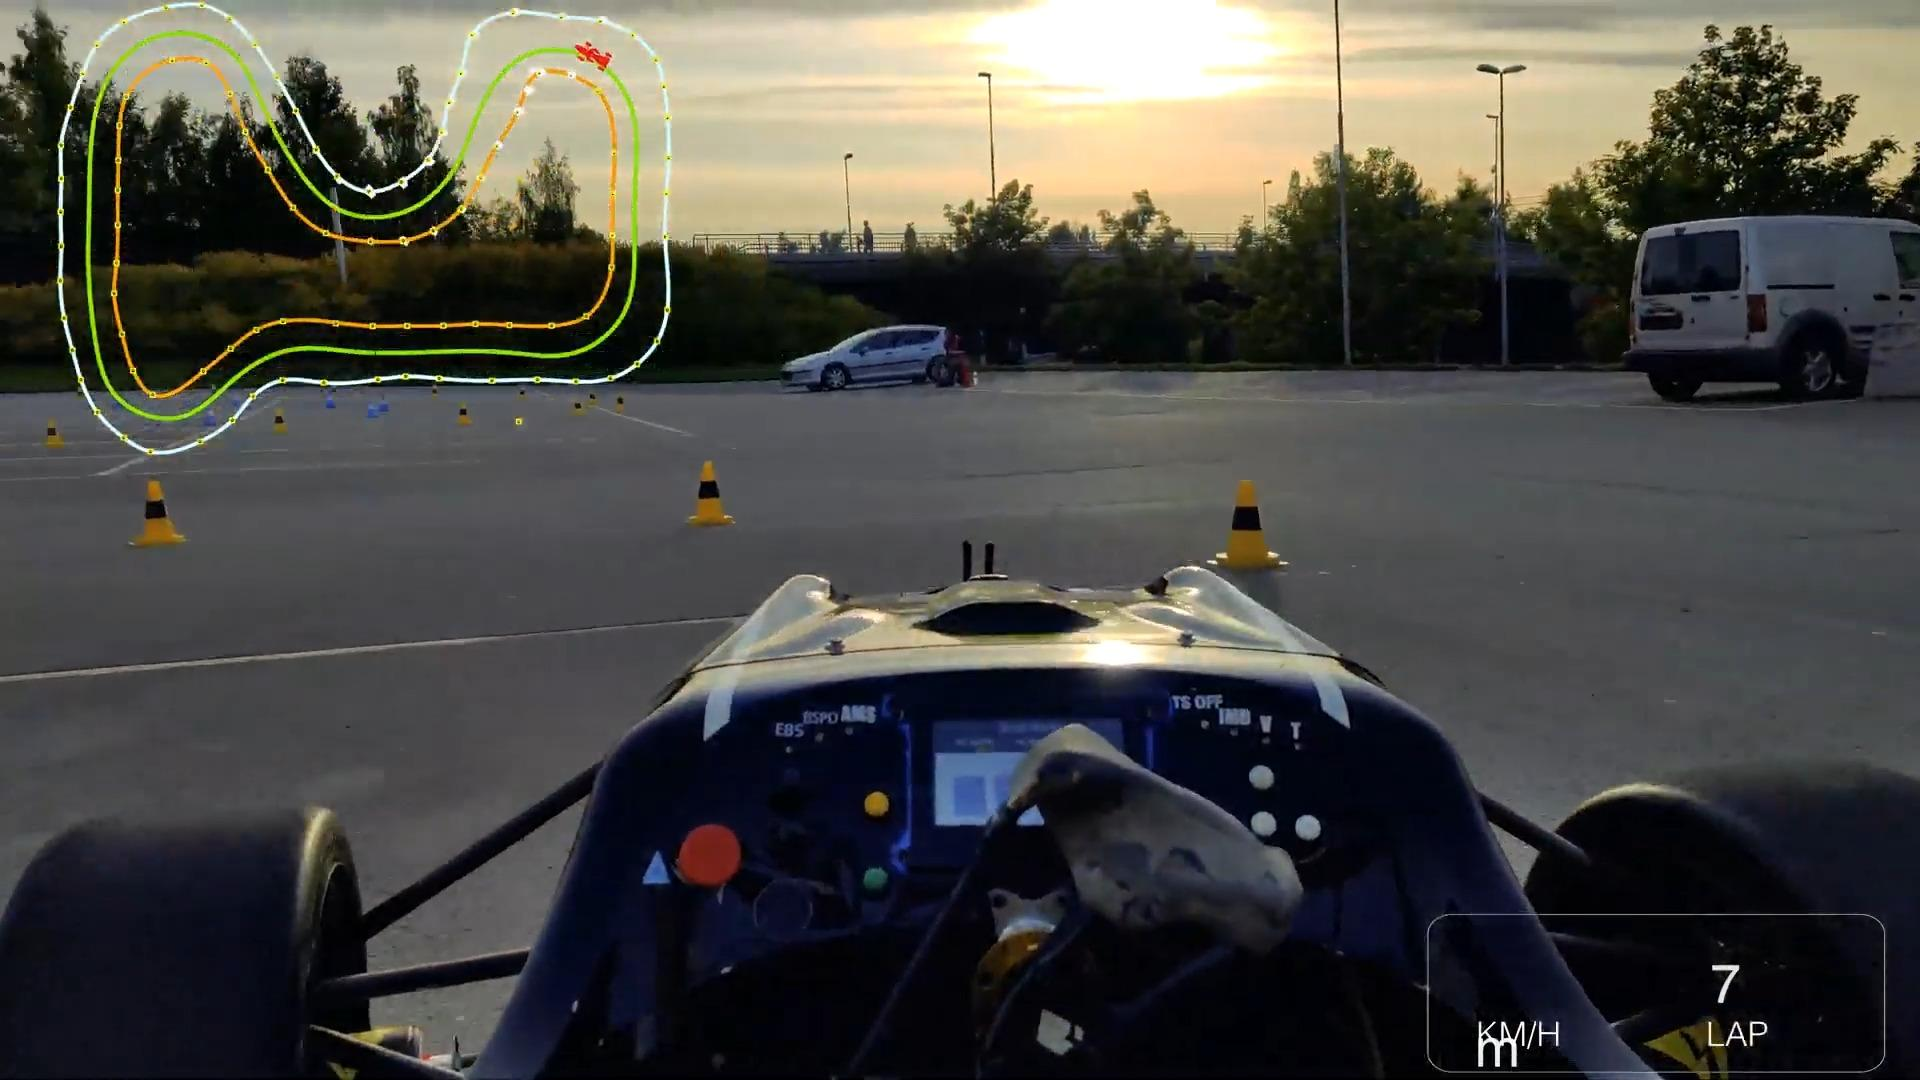yellow_cone: (115, 452, 203, 559), (1203, 472, 1292, 564), (673, 440, 752, 533)
